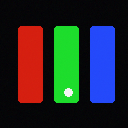0 point: (64, 88, 72, 96)
